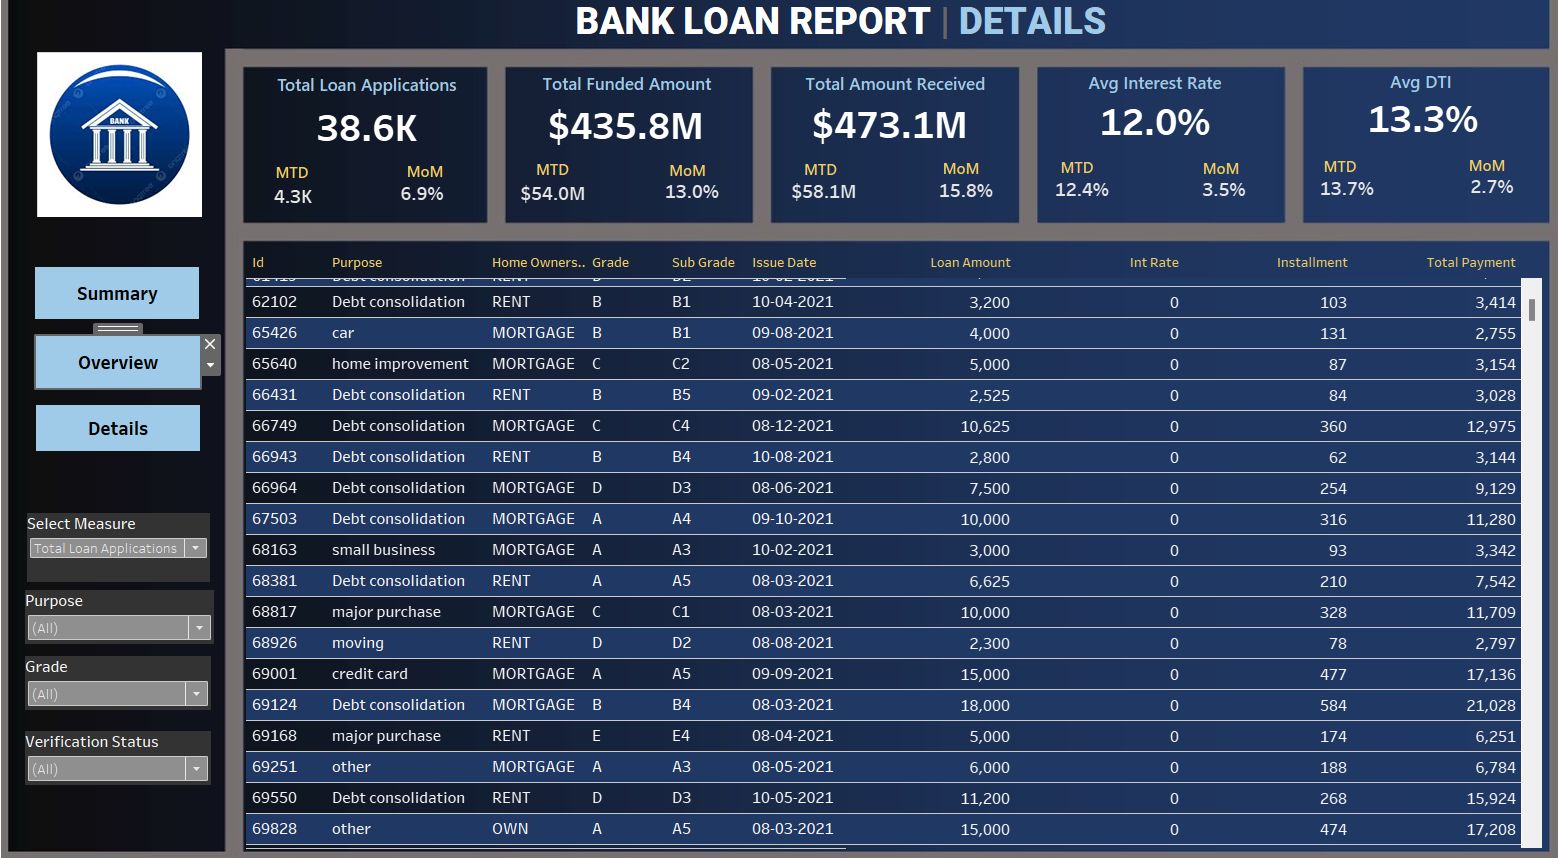

Layout of this report page (visuals, bound fields, positions):
{"tool":"tableau","page":{"name":"DETAILS","canvas":[1600,900],"ordinal":0},"visuals":[{"type":"image","param":"Image/Tableau Background 3.jpg","box":[8,8,1584,884]},{"type":"text","box":[592,25,582,50]},{"type":"image","param":"Image/bank.jpeg","box":[57,79,165,169]},{"type":"text","box":[1391,95,100,30]},{"type":"text","box":[1105,96,140,30]},{"type":"text","box":[559,97,176,30]},{"type":"text","box":[820,97,191,30]},{"type":"worksheet","title":"Total Loan Applications","mark":"Automatic","box":[267,98,240,75]},{"type":"worksheet","title":"Avg DTI","mark":"Automatic","box":[1380,100,127,72]},{"type":"worksheet","title":"Avg Interest Rate","mark":"Automatic","box":[1110,103,129,72]},{"type":"worksheet","title":"Total Funded Amount","mark":"Automatic","box":[561,104,169,77]},{"type":"worksheet","title":"Total Amount Received","mark":"Automatic","box":[825,104,169,75]},{"type":"text","box":[957,179,48,36]},{"type":"text","box":[1481,179,52,30]},{"type":"text","box":[1335,180,50,30]},{"type":"text","box":[547,181,51,33]},{"type":"text","box":[1209,182,64,30]},{"type":"text","box":[421,183,48,34]},{"type":"text","box":[284,184,56,34]},{"type":"text","box":[680,184,55,30]},{"type":"text","box":[817,184,47,28]},{"type":"text","box":[1071,184,52,23]},{"type":"worksheet","title":"MoM  Loan Applications","mark":"Automatic","box":[411,195,62,54]},{"type":"worksheet","title":"MoM Avg DTI","mark":"Automatic","box":[1483,195,57,40]},{"type":"worksheet","title":"MTD Total Loan Applications","mark":"Automatic","box":[286,196,54,58]},{"type":"worksheet","title":"MTD Avg DTI","mark":"Automatic","box":[1335,198,64,37]},{"type":"worksheet","title":"MTD Avg Interest Rate","mark":"Automatic","box":[1070,199,64,38]},{"type":"worksheet","title":"MoM Avg Interest Rate","mark":"Automatic","box":[1215,200,57,36]},{"type":"worksheet","title":"MoM  Total Funded Amount","mark":"Automatic","box":[680,201,64,37]},{"type":"worksheet","title":"MTD Total  Amount Received","mark":"Automatic","box":[802,201,83,37]},{"type":"worksheet","title":"MoM  Total  Amount Received","mark":"Automatic","box":[951,201,70,35]},{"type":"worksheet","title":"MTD Total Funded Amount","mark":"Automatic","box":[530,205,85,33]},{"type":"worksheet","title":"Details Tab","mark":"Automatic","rows":["id","purpose","home_ownership","grade","sub_grade","issue_date"],"box":[266,275,1296,603]},{"type":"dashboard-object","box":[55,296,164,52]},{"type":"dashboard-object","box":[56,365,164,52]},{"type":"dashboard-object","box":[56,434,164,46]},{"type":"parameter","param":"[Parameters].[Parameter 1]","box":[47,542,183,69]},{"type":"filter","title":"Avg DTI","param":"[federated.0wwyalk12wt8di13ai1mo1gs98zu].[none:purpose:nk]","box":[45,619,189,54]},{"type":"filter","title":"Avg DTI","param":"[federated.0wwyalk12wt8di13ai1mo1gs98zu].[none:grade:nk]","box":[45,685,186,54]},{"type":"filter","title":"Avg DTI","param":"[federated.0wwyalk12wt8di13ai1mo1gs98zu].[none:verification_status:nk]","box":[45,760,186,54]}]}

Visuals, with their boxes in screenshot pixels (x1, y1, x2, y2), scaled from the page's 1600x900 canvas onto the 1560x858 screenshot:
image: [8, 8, 1552, 850]
text: [577, 24, 1145, 72]
image: [56, 75, 216, 236]
text: [1356, 91, 1454, 119]
text: [1077, 92, 1214, 120]
text: [545, 92, 717, 121]
text: [800, 92, 986, 121]
"Total Loan Applications" worksheet: [260, 93, 494, 165]
"Avg DTI" worksheet: [1346, 95, 1469, 164]
"Avg Interest Rate" worksheet: [1082, 98, 1208, 167]
"Total Funded Amount" worksheet: [547, 99, 712, 173]
"Total Amount Received" worksheet: [804, 99, 969, 171]
text: [933, 171, 980, 205]
text: [1444, 171, 1495, 199]
text: [1302, 172, 1350, 200]
text: [533, 173, 583, 204]
text: [1179, 174, 1241, 202]
text: [410, 174, 457, 207]
text: [277, 175, 332, 208]
text: [663, 175, 717, 204]
text: [797, 175, 842, 202]
text: [1044, 175, 1095, 197]
"MoM  Loan Applications" worksheet: [401, 186, 461, 237]
"MoM Avg DTI" worksheet: [1446, 186, 1502, 224]
"MTD Total Loan Applications" worksheet: [279, 187, 332, 242]
"MTD Avg DTI" worksheet: [1302, 189, 1364, 224]
"MTD Avg Interest Rate" worksheet: [1043, 190, 1106, 226]
"MoM Avg Interest Rate" worksheet: [1185, 191, 1240, 225]
"MoM  Total Funded Amount" worksheet: [663, 192, 725, 227]
"MTD Total  Amount Received" worksheet: [782, 192, 863, 227]
"MoM  Total  Amount Received" worksheet: [927, 192, 995, 225]
"MTD Total Funded Amount" worksheet: [517, 195, 600, 227]
"Details Tab" worksheet: [259, 262, 1523, 837]
dashboard-object: [54, 282, 214, 332]
dashboard-object: [55, 348, 214, 398]
dashboard-object: [55, 414, 214, 458]
parameter: [46, 517, 224, 582]
"Avg DTI" filter: [44, 590, 228, 642]
"Avg DTI" filter: [44, 653, 225, 705]
"Avg DTI" filter: [44, 725, 225, 776]
